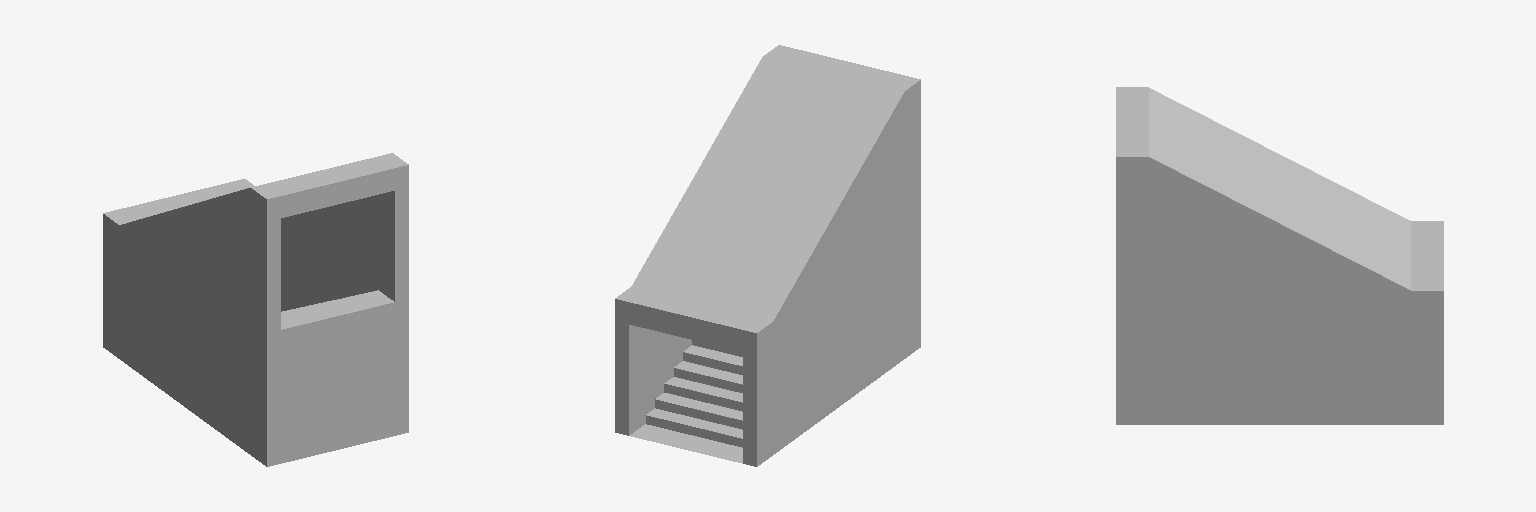
The model's file is worldtile40.obj.
The picture shows the model from 3 angles: view 1: azimuth 30°, elevation 25°; view 2: azimuth 150°, elevation 25°; view 3: azimuth 270°, elevation 25°; orthographic projection.
Visible parts, largest first — view 1: objobjRegroup03; view 2: objobjRegroup03; view 3: objobjRegroup03.
Boxes of the visible parts, x1,y1,x2,y2 form: objobjRegroup03: [103, 153, 408, 466]; objobjRegroup03: [615, 45, 920, 466]; objobjRegroup03: [1116, 87, 1443, 424].
Size of the model in its own units: 10 by 18 by 20.